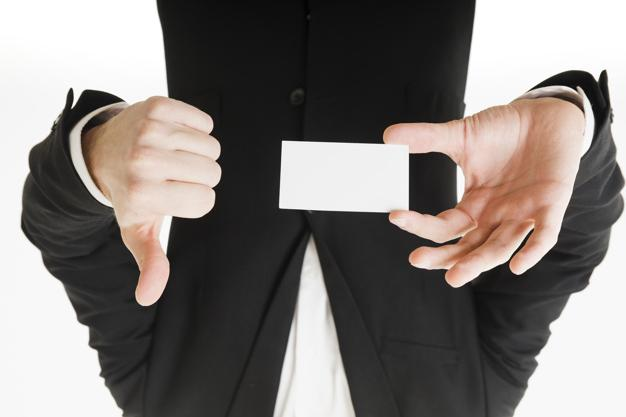thumbsdown: (121, 96, 223, 306)
